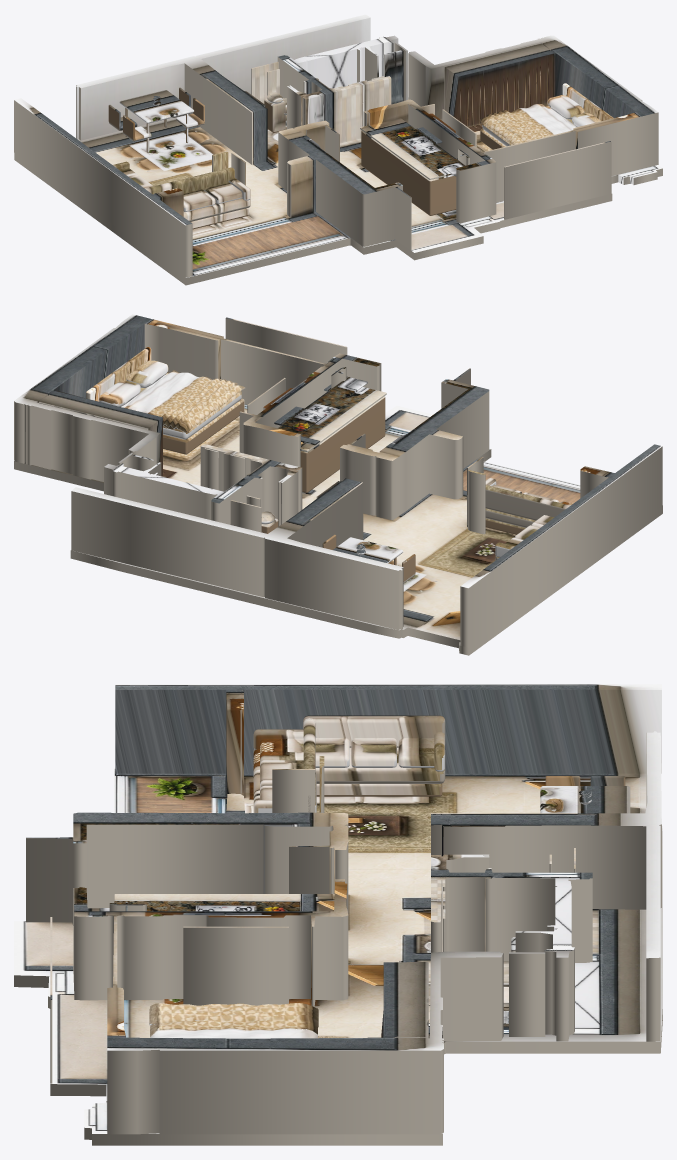
File: p4-02-u11-2110-image-model.glb
The picture shows the model from 3 angles, top to bottom: view 1: azimuth 30°, elevation 25°; view 2: azimuth 150°, elevation 25°; view 3: azimuth 270°, elevation 25°; orthographic projection. The views are drawn at different scales.
Visible parts, largest first — view 1: Partition walls, Apartment floor, Kitchen cabinets, Stone worktop, Draped bed linen, Marble dining top, Sofa back, Upholstered sofa frame, Draped bed linen.001, Upholstered headboard, Inset cooktop, Tailored pillow.001 (+4 smaller); view 2: Partition walls, Apartment floor, Kitchen cabinets, Draped bed linen, Stone worktop, Sofa back, Draped bed linen.001, Walnut upholstered base, Upholstered headboard, Marble dining top, Piped mattress, Tailored pillow (+2 smaller); view 3: Partition walls, Apartment floor, Stone worktop, Draped bed linen, Sofa back.001, Draped bed linen.001, Marble dining top, Upholstered sofa frame.001, Sofa plinth.001, Seat cushion.004, Seat cushion.005, Seat cushion (+2 smaller).
Boxes of the visible parts, left/top/right/bottom form: Partition walls: left=14, top=14, right=658, bottom=277; Apartment floor: left=14, top=97, right=662, bottom=285; Kitchen cabinets: left=361, top=130, right=456, bottom=215; Stone worktop: left=360, top=118, right=455, bottom=179; Draped bed linen: left=479, top=104, right=575, bottom=144; Marble dining top: left=119, top=90, right=193, bottom=123; Sofa back: left=145, top=167, right=234, bottom=194; Upholstered sofa frame: left=183, top=198, right=250, bottom=221; Draped bed linen.001: left=486, top=110, right=543, bottom=141; Upholstered headboard: left=562, top=83, right=613, bottom=120; Inset cooktop: left=395, top=127, right=442, bottom=148; Tailored pillow.001: left=547, top=95, right=584, bottom=119; Partition walls: left=14, top=314, right=662, bottom=647; Apartment floor: left=14, top=404, right=662, bottom=655; Kitchen cabinets: left=300, top=396, right=385, bottom=492; Draped bed linen: left=124, top=370, right=245, bottom=433; Stone worktop: left=278, top=387, right=386, bottom=452; Sofa back: left=485, top=485, right=570, bottom=520; Draped bed linen.001: left=162, top=378, right=238, bottom=429; Walnut upholstered base: left=163, top=398, right=244, bottom=454; Upholstered headboard: left=86, top=347, right=151, bottom=401; Marble dining top: left=333, top=537, right=403, bottom=563; Piped mattress: left=121, top=372, right=241, bottom=439; Tailored pillow: left=126, top=360, right=168, bottom=388; Partition walls: left=26, top=684, right=661, bottom=1134; Apartment floor: left=14, top=768, right=662, bottom=1145; Stone worktop: left=114, top=894, right=334, bottom=911; Draped bed linen: left=150, top=1003, right=317, bottom=1038; Sofa back.001: left=303, top=715, right=445, bottom=747; Draped bed linen.001: left=149, top=1003, right=318, bottom=1027; Marble dining top: left=540, top=786, right=630, bottom=813; Upholstered sofa frame.001: left=315, top=747, right=445, bottom=783; Sofa plinth.001: left=316, top=783, right=442, bottom=796; Seat cushion.004: left=351, top=738, right=396, bottom=767; Seat cushion.005: left=398, top=738, right=434, bottom=767; Seat cushion: left=260, top=738, right=303, bottom=763.
Size of the model in its own units: 10.72 by 1.3 by 8.02.
Materials: 14 (3 with a texture image).
